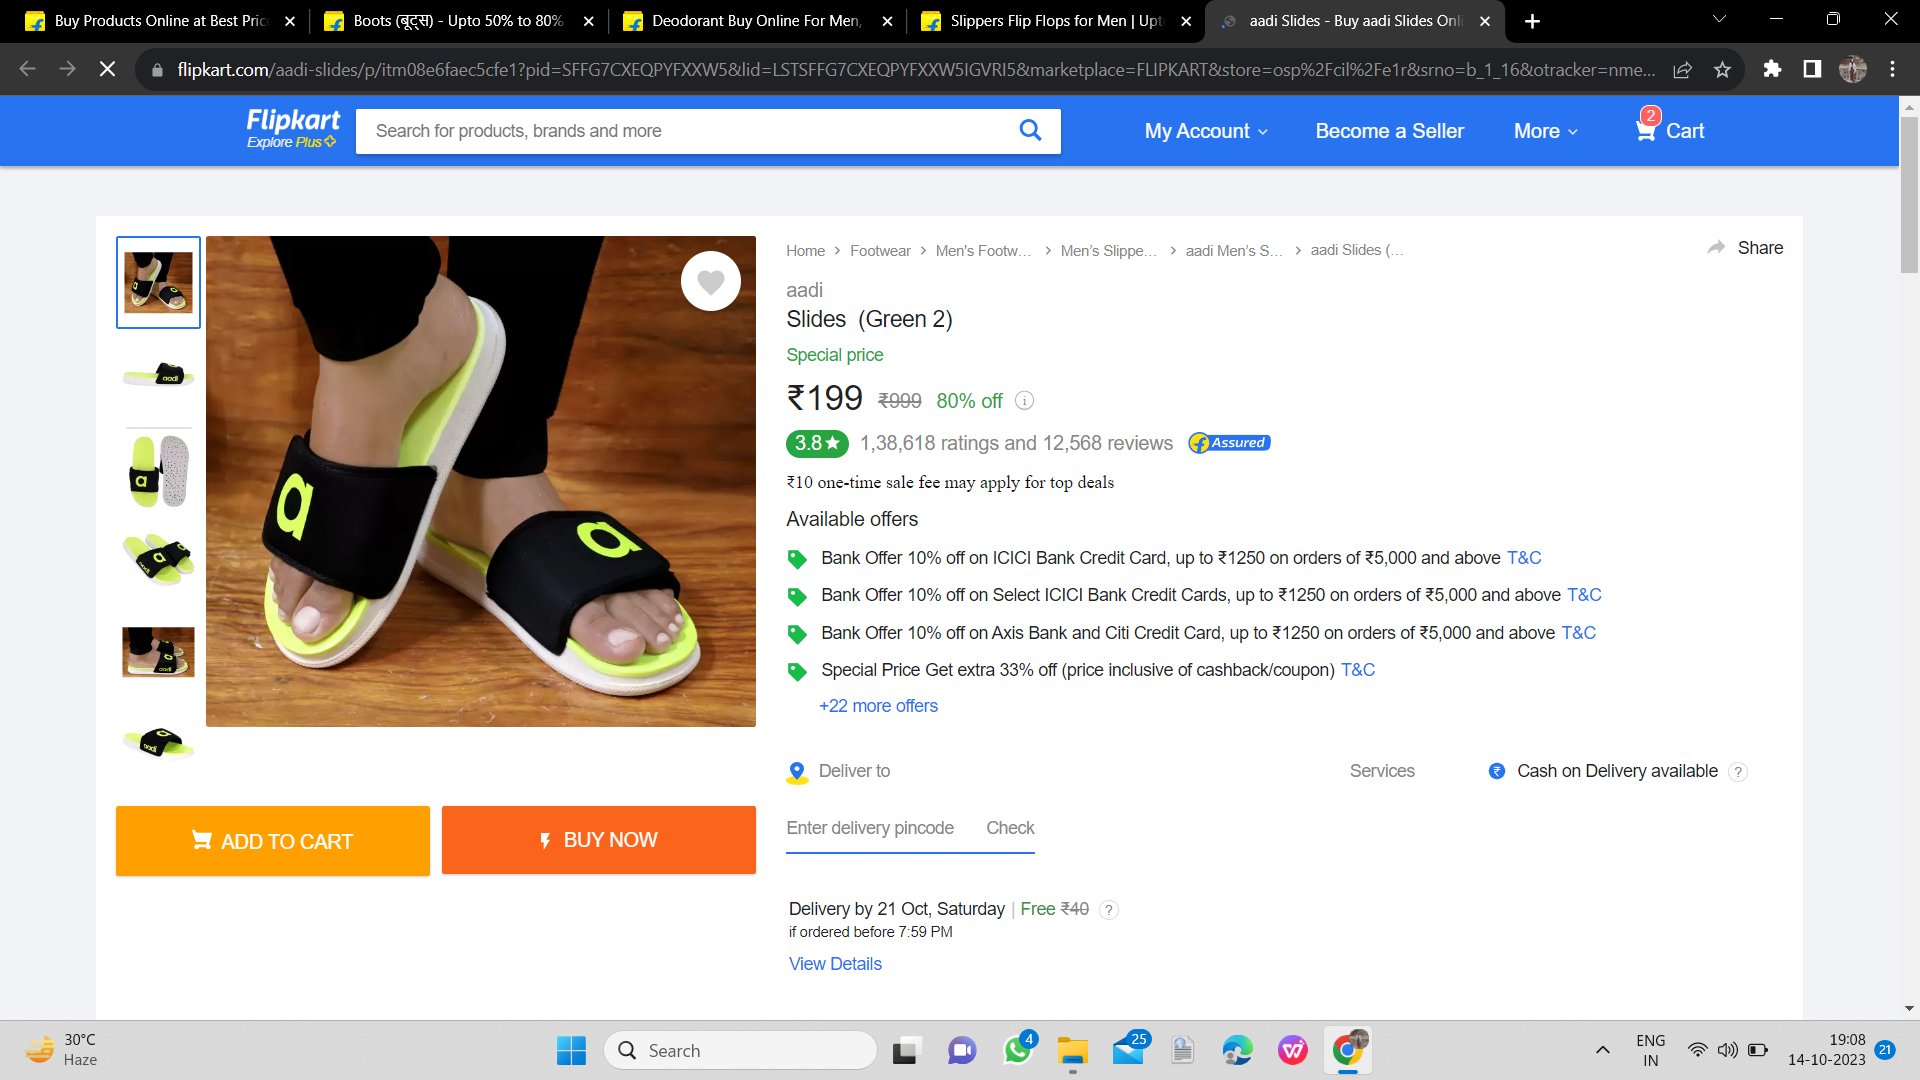Image: (199, 227, 766, 749)
Paragraph: (783, 546, 1611, 720), (109, 796, 761, 882), (779, 750, 1051, 876), (1126, 102, 1724, 152), (766, 893, 1096, 980), (783, 339, 1042, 417), (1344, 750, 1724, 798), (781, 427, 1283, 459), (773, 272, 971, 332), (785, 465, 1116, 496), (783, 498, 923, 530)
